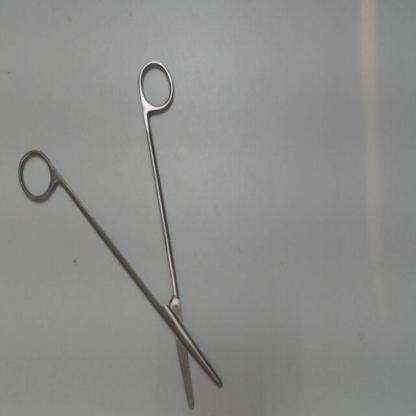9 Metzenbaum Scissors: (14, 52, 226, 415)
